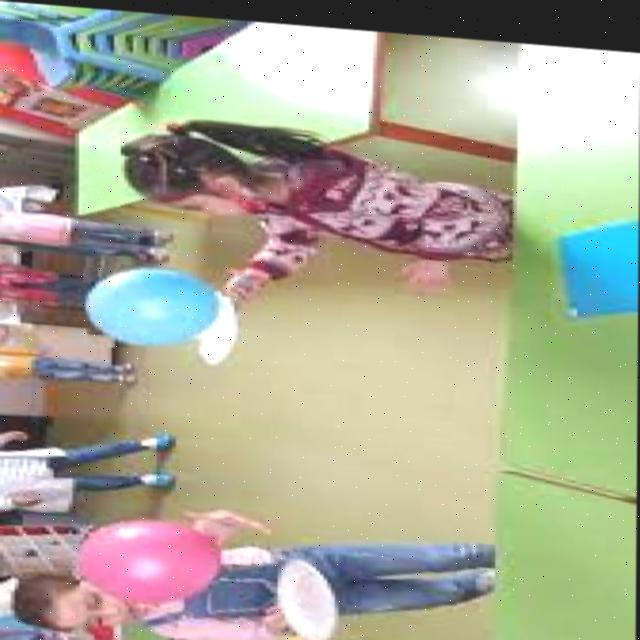balloon: (82, 507, 222, 607), (83, 255, 226, 351)
